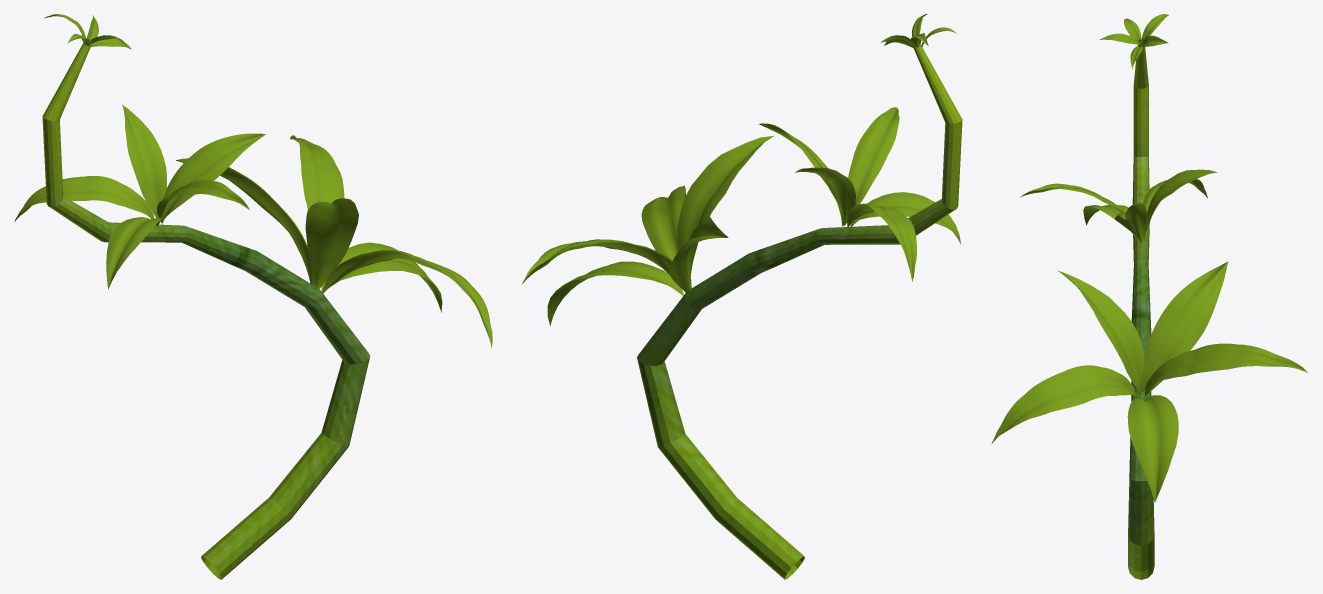
File: plantgrowing.glb
The picture shows the model from 3 angles, left to right: view 1: azimuth 30°, elevation 25°; view 2: azimuth 150°, elevation 25°; view 3: azimuth 270°, elevation 25°; orthographic projection. The views are drawn at different scales.
Visible parts, largest first — view 1: Vert.001; view 2: Vert.001; view 3: Vert.001.
Boxes of the visible parts, left/top/right/bottom form: Vert.001: left=14, top=14, right=492, bottom=579; Vert.001: left=522, top=14, right=962, bottom=579; Vert.001: left=991, top=14, right=1307, bottom=579.
Bounding box in the file's own units: 0.2594 × 0.3612 × 0.2067.
Materials: 1 (1 with a texture image).
